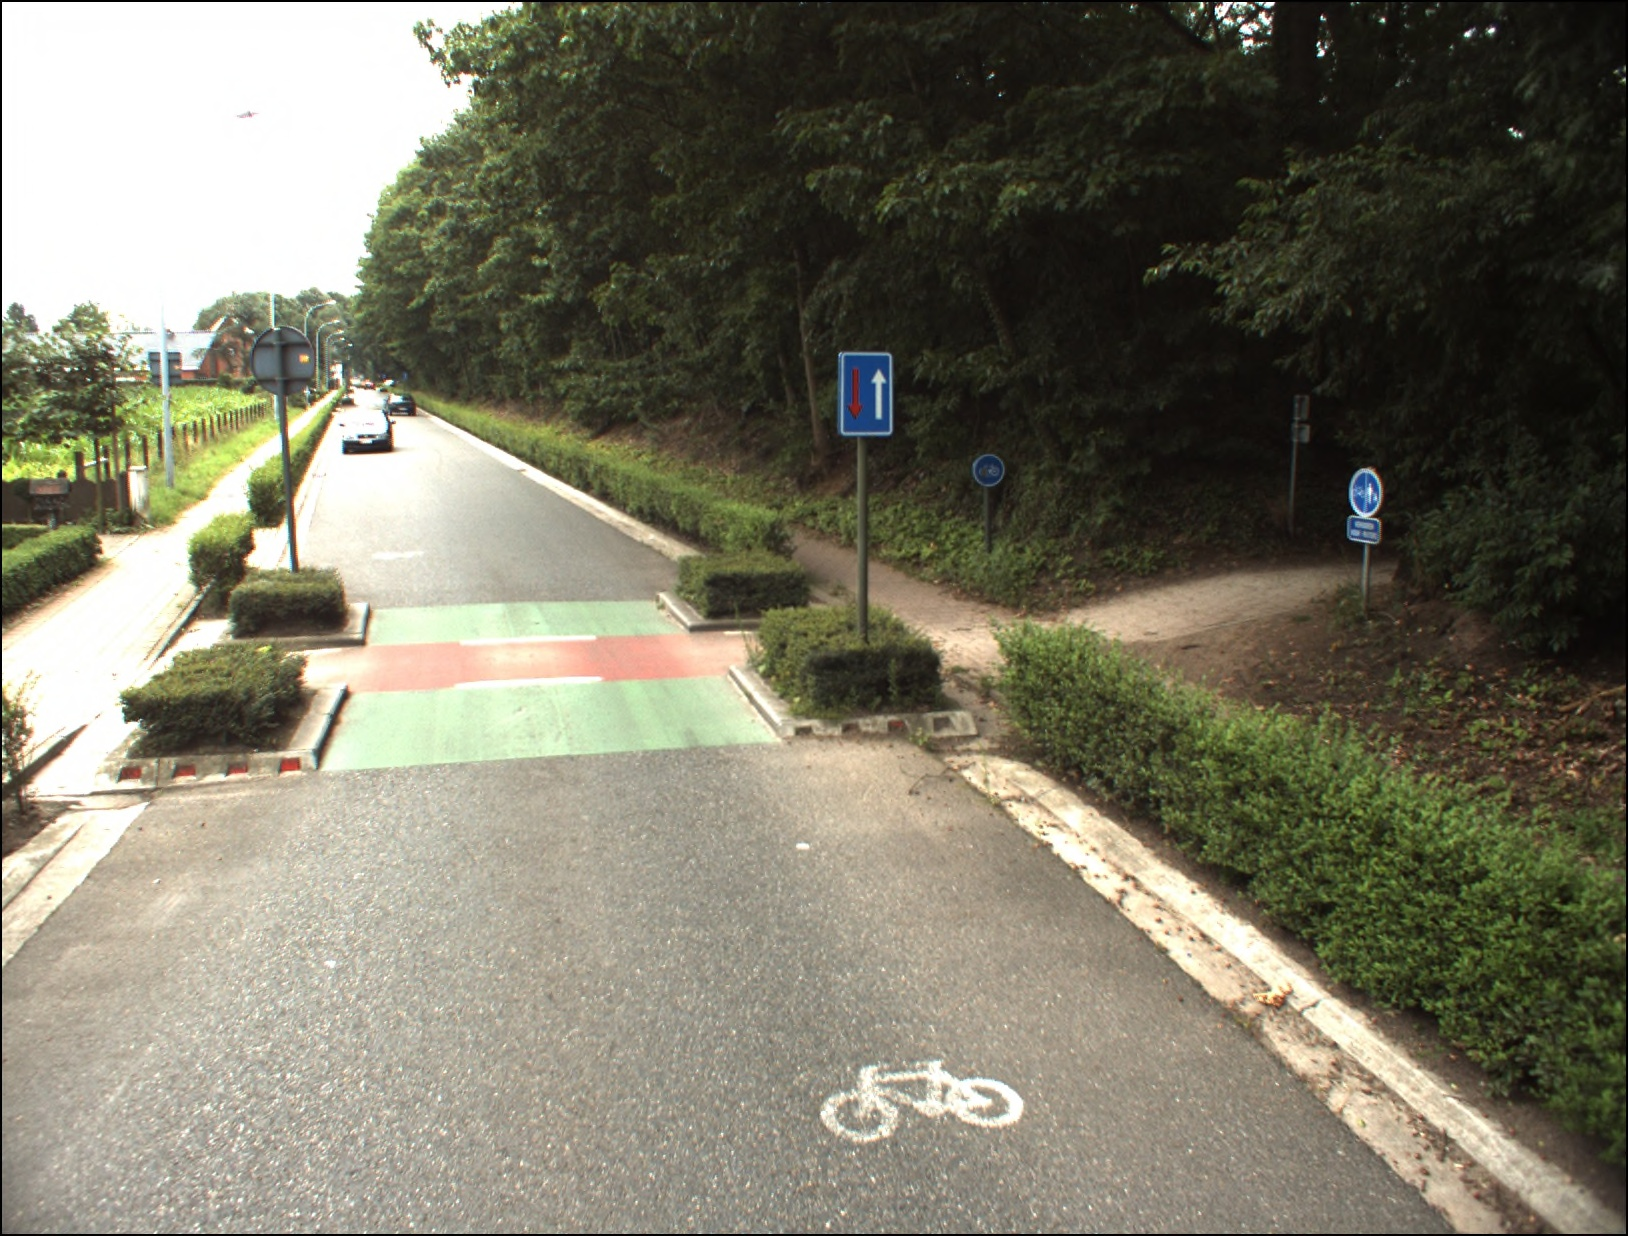cycle: (971, 454, 1013, 489)
roadnarrow1: (837, 353, 894, 438)
